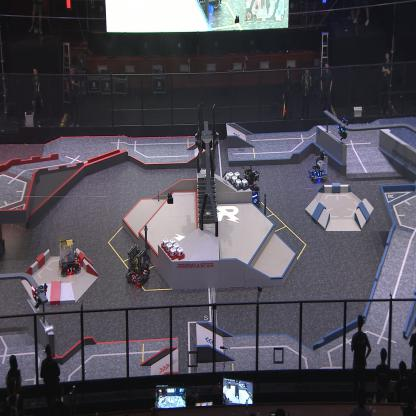car: (125, 242, 150, 286), (58, 236, 80, 276), (242, 167, 262, 208), (308, 148, 328, 182)
